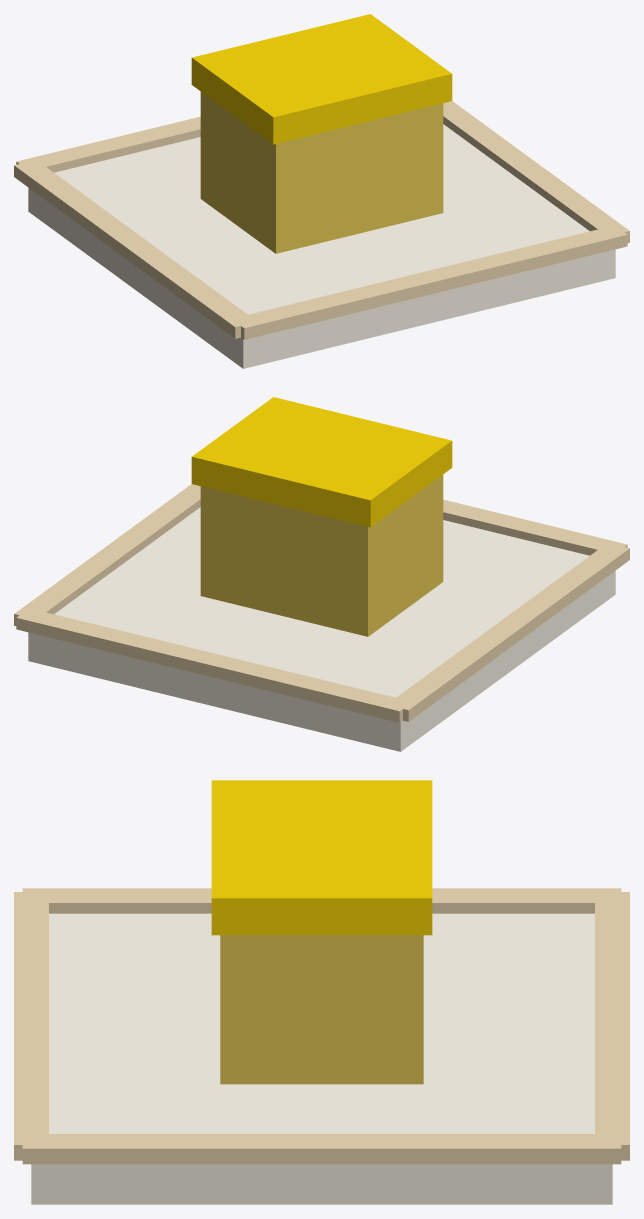
Rendered from city.bonus_chest.glb.
3 renders of one model, top to bottom at view 1: azimuth 30°, elevation 25°; view 2: azimuth 150°, elevation 25°; view 3: azimuth 270°, elevation 25°, orthographic. The views are drawn at different scales.
Visible parts, largest first — view 1: city.bonus_chest; view 2: city.bonus_chest; view 3: city.bonus_chest.
Boxes of the visible parts, x1,y1,x2,y2 form: city.bonus_chest: [14, 14, 629, 368]; city.bonus_chest: [14, 397, 629, 751]; city.bonus_chest: [14, 780, 629, 1204].
Size of the model in its own units: 2.12 by 0.92 by 2.12.
